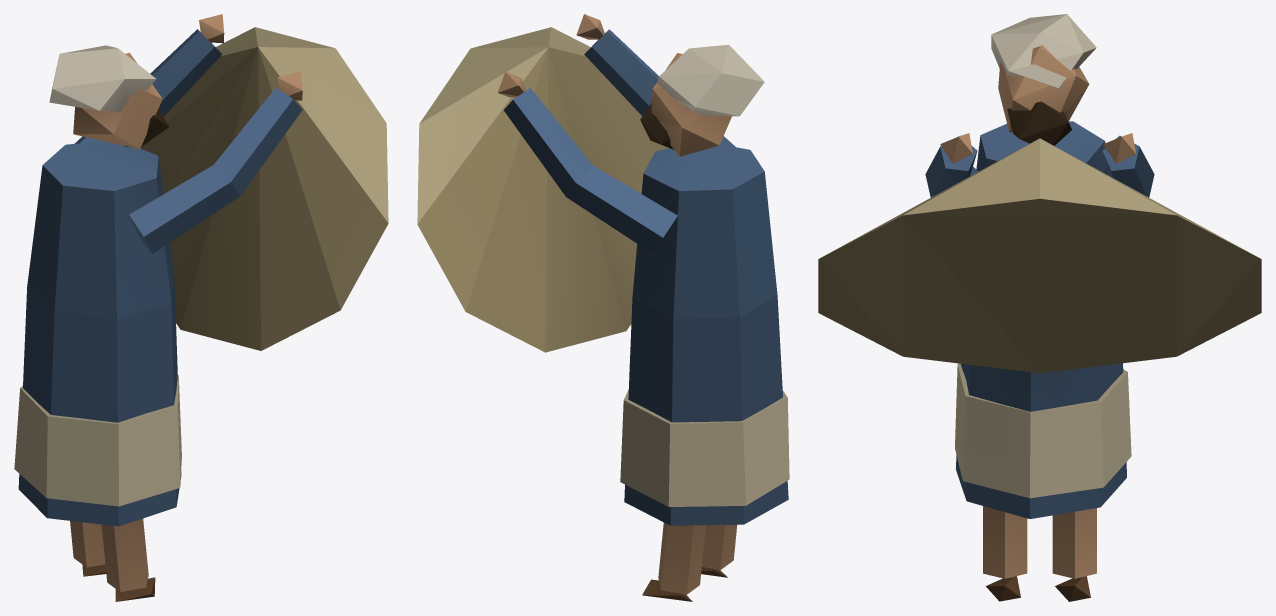
File: fisherman.glb
The picture shows the model from 3 angles, left to right: view 1: azimuth 30°, elevation 25°; view 2: azimuth 150°, elevation 25°; view 3: azimuth 270°, elevation 25°; orthographic projection. The views are drawn at different scales.
Visible parts, largest first — view 1: base, arms_m; view 2: base, arms_m; view 3: arms_m, base.
Boxes of the visible parts, bbox=[...] form: base: bbox=[14, 45, 181, 601]; arms_m: bbox=[74, 14, 388, 350]; base: bbox=[620, 44, 789, 601]; arms_m: bbox=[417, 14, 735, 352]; arms_m: bbox=[818, 133, 1261, 373]; base: bbox=[955, 14, 1131, 601].
Bounding box in the file's own units: 0.3128 × 0.5305 × 0.3804.
